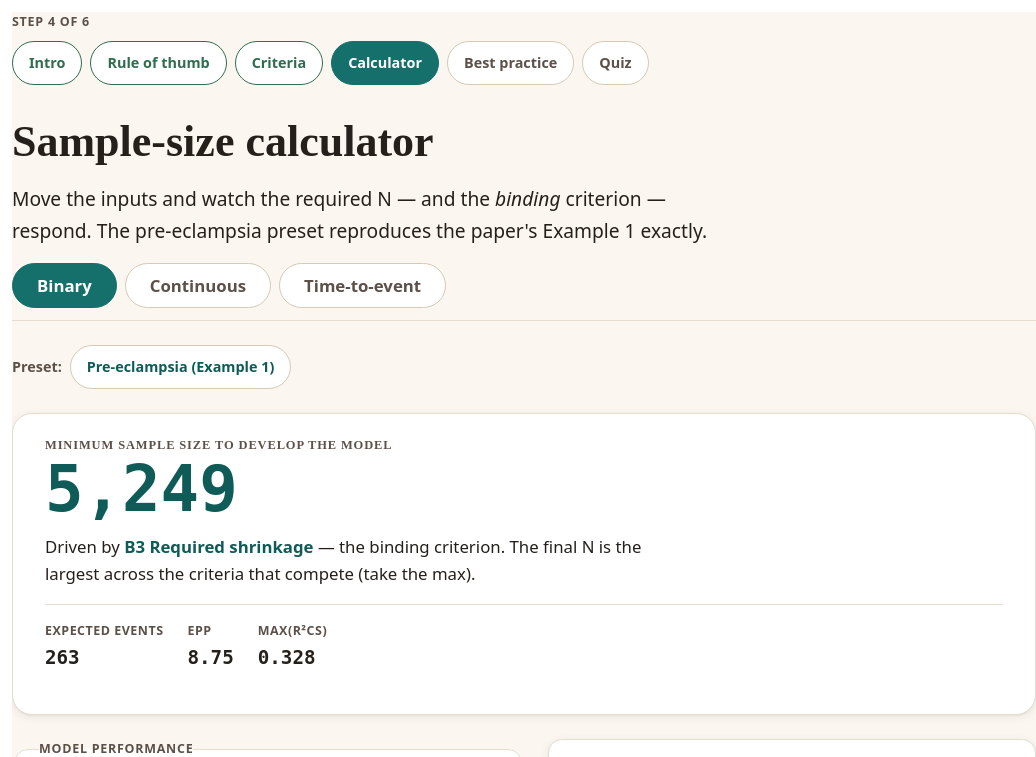
Test: /calculator binary tab › switching to the continuous tab loads the fat-free-mass preset → N = 254
Click the tab "Continuous": (198, 285) [125,262,271,308]
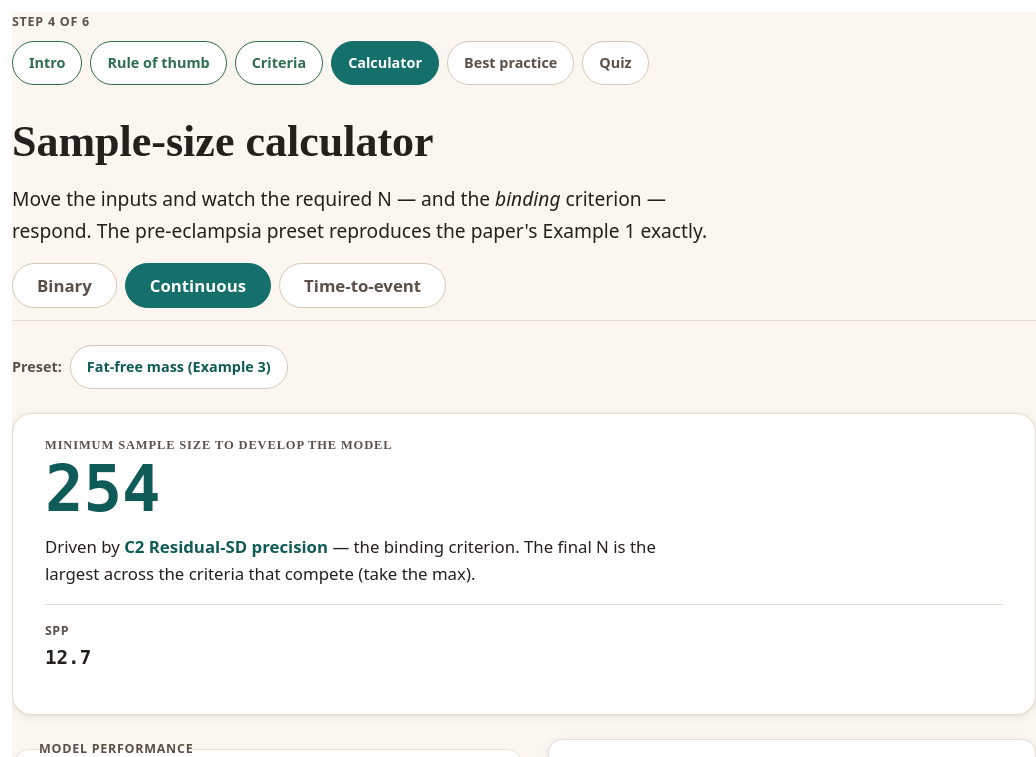
Expected: the element that starts with "Driven by" shows "Residual-SD precision", [124,535,328,558]
